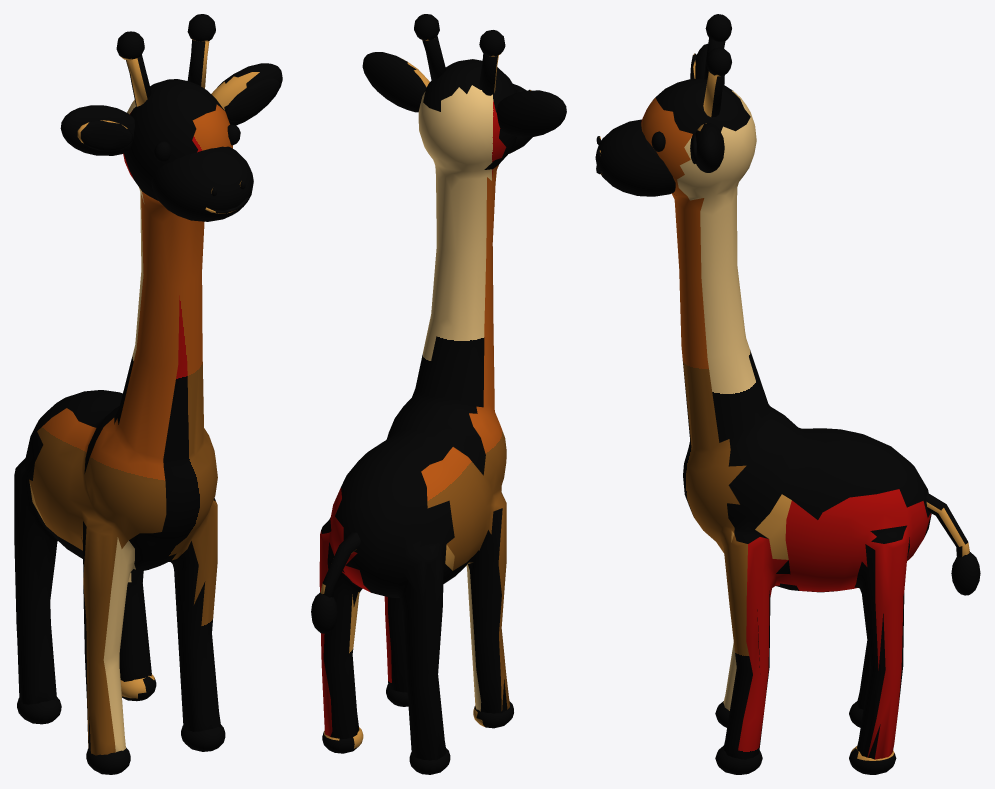
Rendered from giraffe.fbx.
The picture shows the model from 3 angles, left to right: view 1: azimuth 30°, elevation 25°; view 2: azimuth 150°, elevation 25°; view 3: azimuth 270°, elevation 25°; orthographic projection. The views are drawn at different scales.
Visible parts, largest first — view 1: giraffe; view 2: giraffe; view 3: giraffe.
Part boxes in pixels (x1,y1,x2,y2): giraffe: [14, 14, 282, 774]; giraffe: [311, 14, 566, 774]; giraffe: [595, 14, 980, 774].
Size of the model in its own units: 31.02 by 100 by 48.58.
